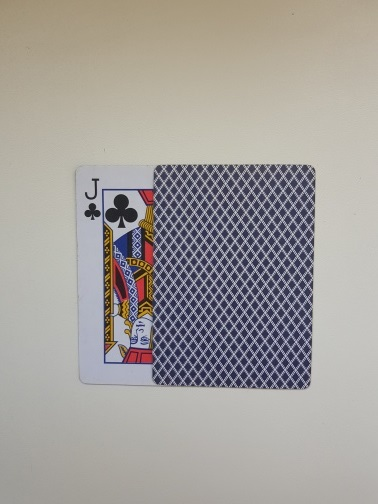jack: (73, 164, 246, 387)
